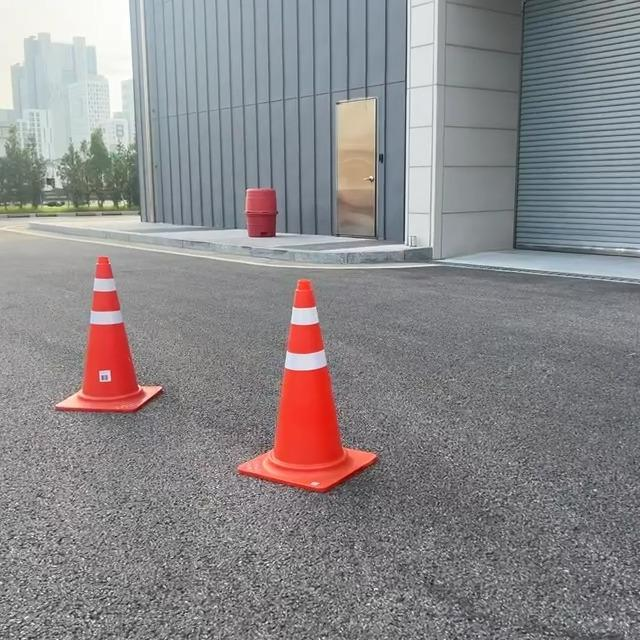fallen_object: (223, 262, 393, 529), (25, 265, 209, 433)
